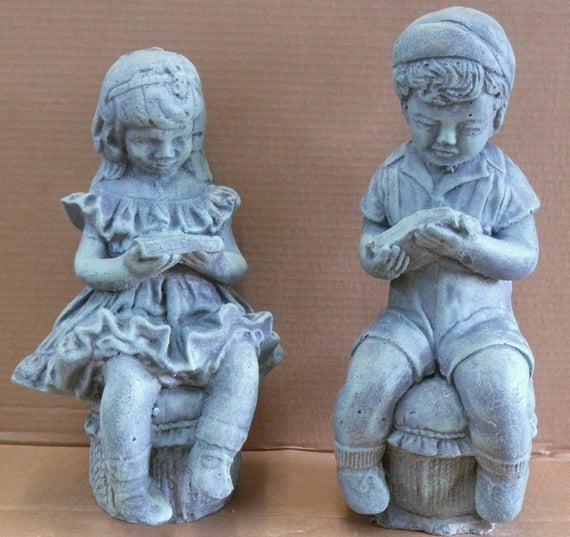person-like: (6, 44, 288, 531), (328, 3, 546, 529)
